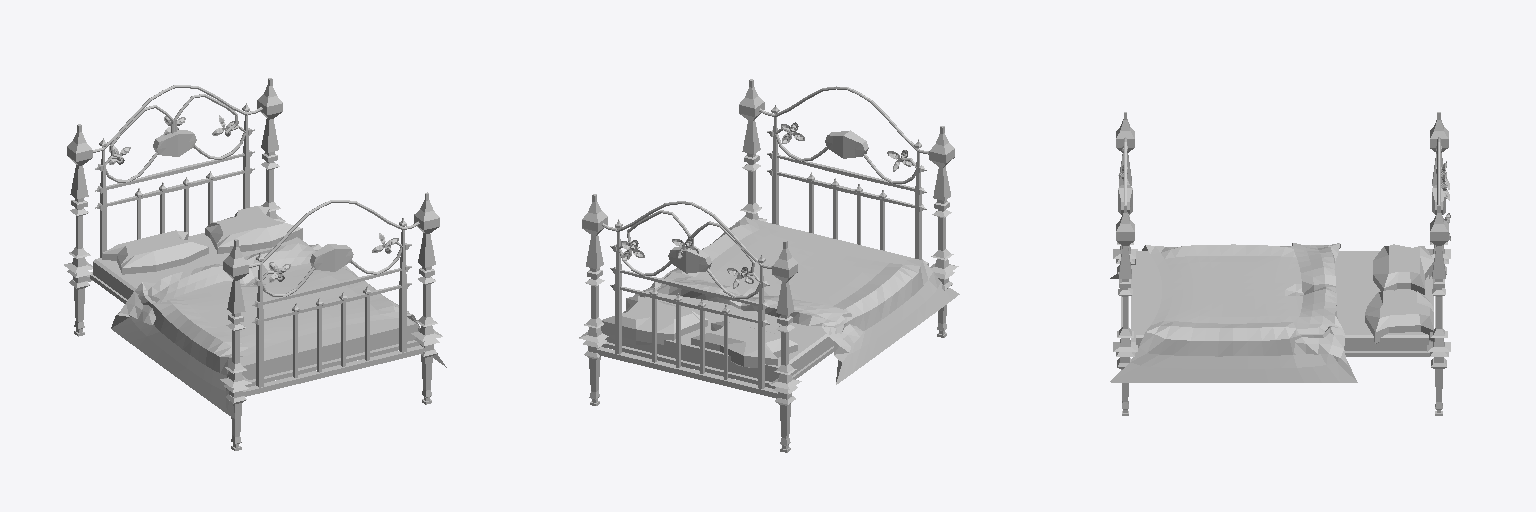
The model's file is Cama.obj.
3 views of the same model, side by side, from view 1: azimuth 30°, elevation 25°; view 2: azimuth 150°, elevation 25°; view 3: azimuth 270°, elevation 25° (orthographic).
Visible parts, largest first — view 1: The_Bed polyToSubd39 Blanket, The_Bed Lower_Bed polyToSubd38 group3, The_Bed Back polySurface15, The_Bed Front polySurface10, The_Bed polySurface11 Back, The_Bed Front polySurface9, polyToSubd40 Pilow The_Bed, Pilow The_Bed polyToSubd1, The_Bed Front polySurface8, The_Bed Back polyToSubd5, The_Bed Back polySurface13, The_Bed pCube1 Lower_Bed (+2 smaller); view 2: The_Bed polyToSubd39 Blanket, The_Bed Lower_Bed polyToSubd38 group3, The_Bed Front polySurface10, The_Bed Back polySurface15, The_Bed Front polySurface9, The_Bed polySurface11 Back, Pilow The_Bed polyToSubd1, polyToSubd40 Pilow The_Bed, The_Bed Front polySurface8, The_Bed Front polyToSubd5, The_Bed Back polySurface13, The_Bed pCube1 Lower_Bed (+3 smaller); view 3: The_Bed polyToSubd39 Blanket, The_Bed Lower_Bed polyToSubd38 group3, The_Bed Front polySurface10, The_Bed Back polySurface15, Pilow The_Bed polyToSubd1, polyToSubd40 Pilow The_Bed, The_Bed pCube1 Lower_Bed.
Boxes of the visible parts, box(x1,y1,x2,y2) form: The_Bed polyToSubd39 Blanket: box(111, 243, 446, 418); The_Bed Lower_Bed polyToSubd38 group3: box(93, 217, 417, 379); The_Bed Back polySurface15: box(220, 192, 442, 450); The_Bed Front polySurface10: box(64, 78, 285, 336); The_Bed polySurface11 Back: box(256, 230, 406, 387); The_Bed Front polySurface9: box(100, 115, 249, 257); polyToSubd40 Pilow The_Bed: box(102, 230, 208, 274); Pilow The_Bed polyToSubd1: box(205, 206, 302, 253); The_Bed Front polySurface8: box(93, 85, 262, 182); The_Bed Back polyToSubd5: box(243, 345, 424, 396); The_Bed Back polySurface13: box(249, 200, 419, 296); The_Bed pCube1 Lower_Bed: box(90, 273, 419, 386); The_Bed polyToSubd39 Blanket: box(633, 216, 959, 384); The_Bed Lower_Bed polyToSubd38 group3: box(605, 219, 928, 381); The_Bed Front polySurface10: box(579, 194, 801, 452); The_Bed Back polySurface15: box(735, 79, 958, 337); The_Bed Front polySurface9: box(615, 229, 764, 388); The_Bed polySurface11 Back: box(772, 117, 921, 259); Pilow The_Bed polyToSubd1: box(601, 296, 707, 344); polyToSubd40 Pilow The_Bed: box(691, 321, 797, 367); The_Bed Front polySurface8: box(602, 201, 771, 298); The_Bed Front polyToSubd5: box(597, 347, 777, 398); The_Bed Back polySurface13: box(759, 86, 928, 183); The_Bed pCube1 Lower_Bed: box(602, 342, 833, 388); The_Bed polyToSubd39 Blanket: box(1110, 243, 1357, 382); The_Bed Lower_Bed polyToSubd38 group3: box(1136, 251, 1428, 350); The_Bed Front polySurface10: box(1427, 112, 1450, 415); The_Bed Back polySurface15: box(1113, 112, 1137, 415); Pilow The_Bed polyToSubd1: box(1365, 290, 1433, 343); polyToSubd40 Pilow The_Bed: box(1373, 244, 1433, 294); The_Bed pCube1 Lower_Bed: box(1131, 265, 1433, 356).
Bounding box in the file's own units: 45.71 × 45.31 × 62.33.